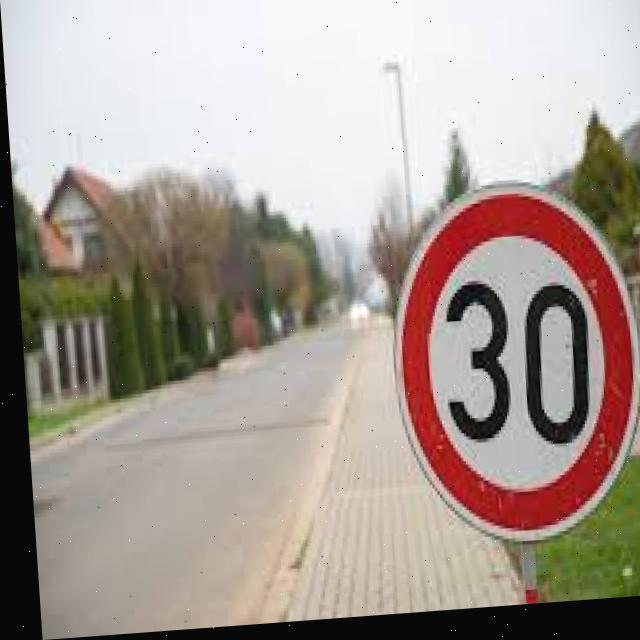Speed limit 30: (378, 179, 640, 560)
